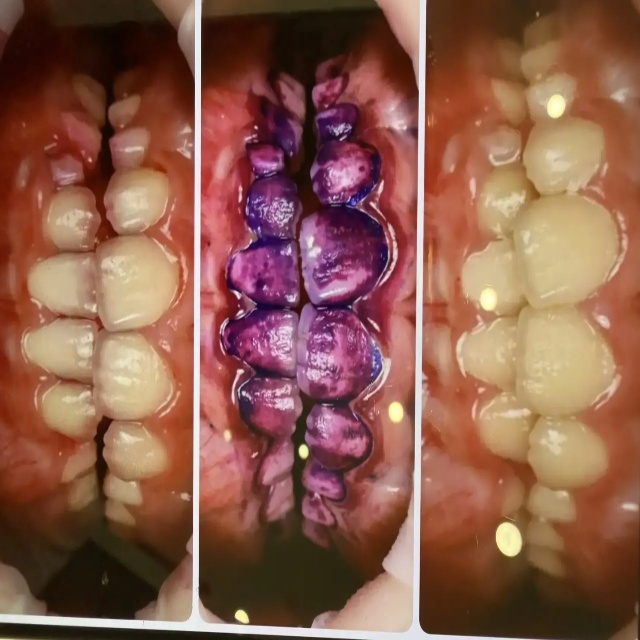clean_tooth: (522, 223, 591, 298), (100, 252, 164, 329), (98, 335, 159, 411), (526, 320, 580, 393), (347, 573, 409, 628), (37, 258, 96, 310), (24, 322, 93, 366), (463, 246, 511, 309), (537, 146, 591, 192), (458, 323, 511, 368), (116, 186, 156, 228), (150, 591, 192, 621), (533, 82, 567, 117), (54, 207, 87, 237), (0, 578, 26, 616), (485, 191, 523, 215), (60, 391, 94, 416), (114, 430, 143, 458), (540, 427, 567, 457), (496, 523, 520, 555)
plaque: (222, 117, 385, 381), (307, 404, 344, 443), (239, 375, 269, 414), (318, 106, 355, 135), (309, 462, 340, 491)
